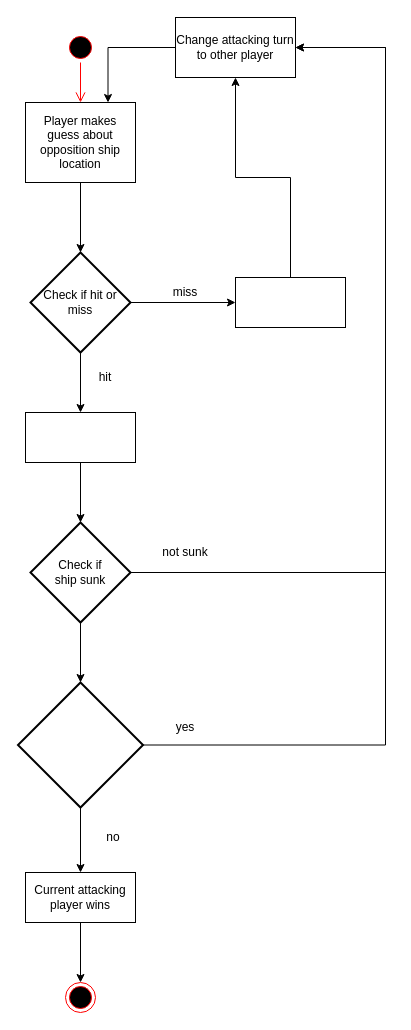
This 411x1030 diagram has some shape labels left out. The centre of each missing label's shape, as x and y in pixels:
Check if opposition has remaining ships: (80,744)
Update player's grid with hit: (80,437)
Update player's grid with miss mark: (290,302)
